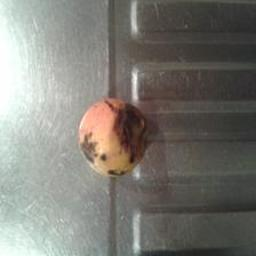Mango Rotten: (69, 95, 156, 187)
